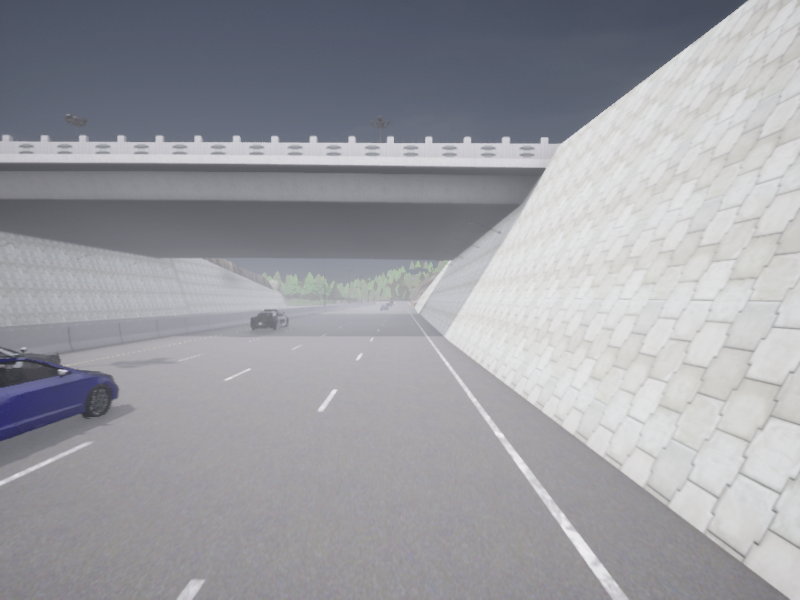vehicle: (0, 356, 118, 441), (0, 346, 59, 364), (250, 309, 288, 330), (381, 304, 388, 309), (387, 303, 391, 307), (389, 301, 393, 305)
